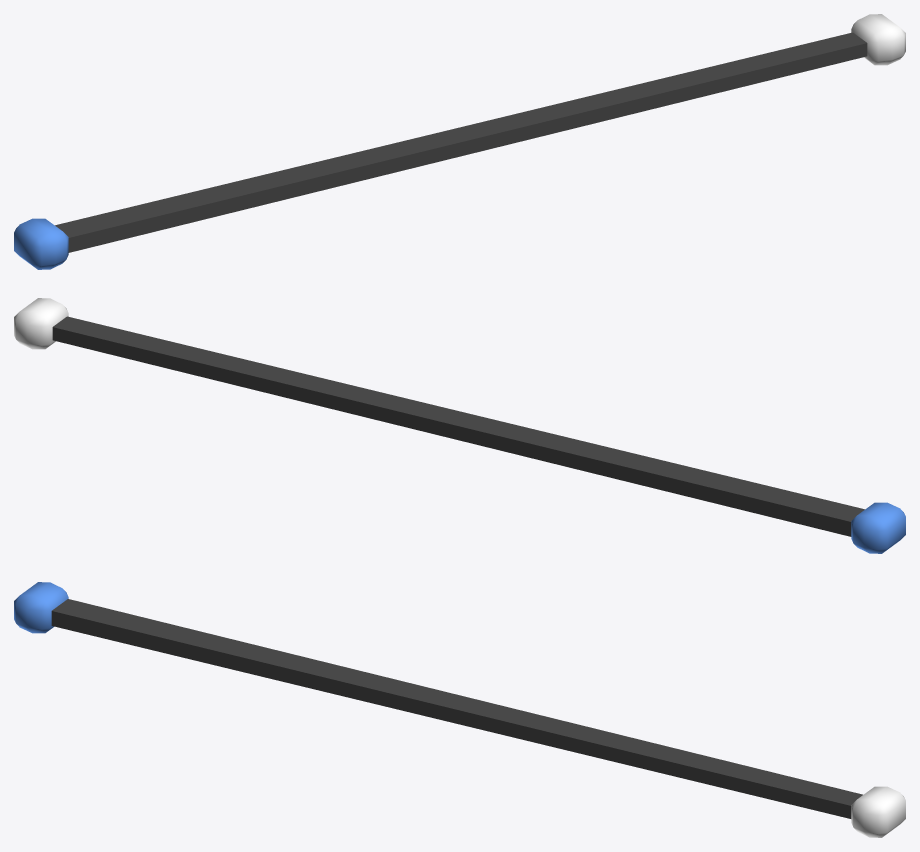
Rendered from diff_2.1.fbx.
3 views of the same model, one above another, from view 1: azimuth 30°, elevation 25°; view 2: azimuth 150°, elevation 25°; view 3: azimuth 330°, elevation 25° (orthographic).
Visible parts, largest first — view 1: Cube.008; view 2: Cube.008; view 3: Cube.008.
Part boxes in pixels (<box>): Cube.008: <box>14,14,905,269</box>; Cube.008: <box>14,298,905,553</box>; Cube.008: <box>14,582,905,837</box>.
Bounding box in the file's own units: 2490 × 104 × 142.
